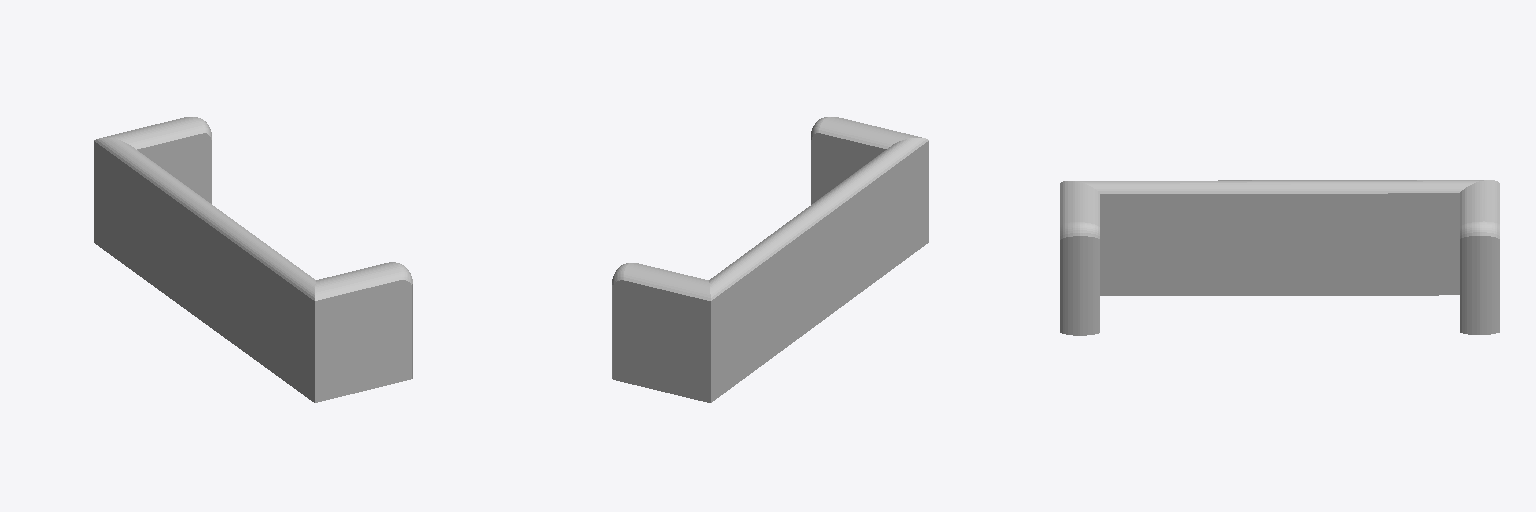
File: Sofa_base.obj
The picture shows the model from 3 angles: view 1: azimuth 30°, elevation 25°; view 2: azimuth 150°, elevation 25°; view 3: azimuth 270°, elevation 25°; orthographic projection.
Visible parts, largest first — view 1: Sofa_base_Cube; view 2: Sofa_base_Cube; view 3: Sofa_base_Cube.
Part boxes in pixels (bbox=[...]): Sofa_base_Cube: bbox=[94, 117, 412, 402]; Sofa_base_Cube: bbox=[612, 117, 928, 402]; Sofa_base_Cube: bbox=[1060, 180, 1499, 335].
Bounding box in the file's own units: 0.786 × 0.7779 × 2.85.